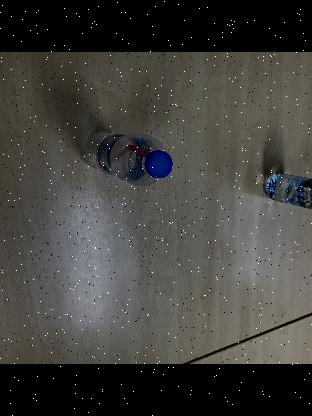Plastic Bottle: (82, 132, 172, 186), (261, 173, 312, 214)
